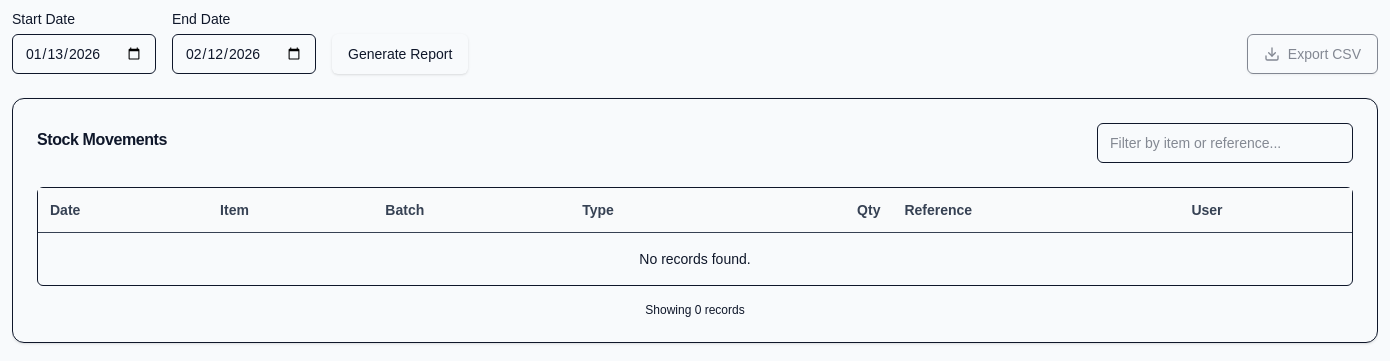
Test: StockLedgerPage › fetches and displays data on Generate Report click
Click the button "Generate Report": coordinates (400, 54) [332,34,468,74]
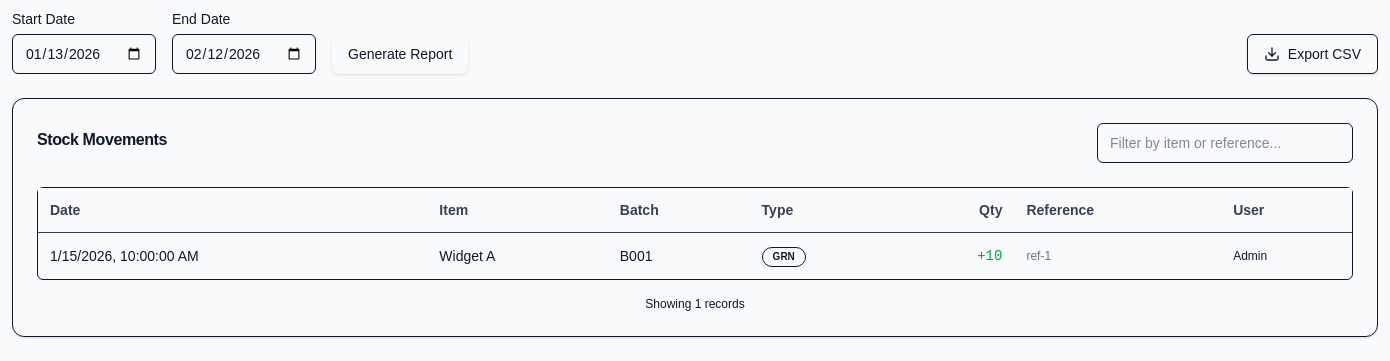
Expected: the text "Widget A" is shown, [427,232,608,279]
Expected: the text "B001" is shown, [608,232,750,279]
Expected: the text "+10" is shown, [904,232,1014,279]
